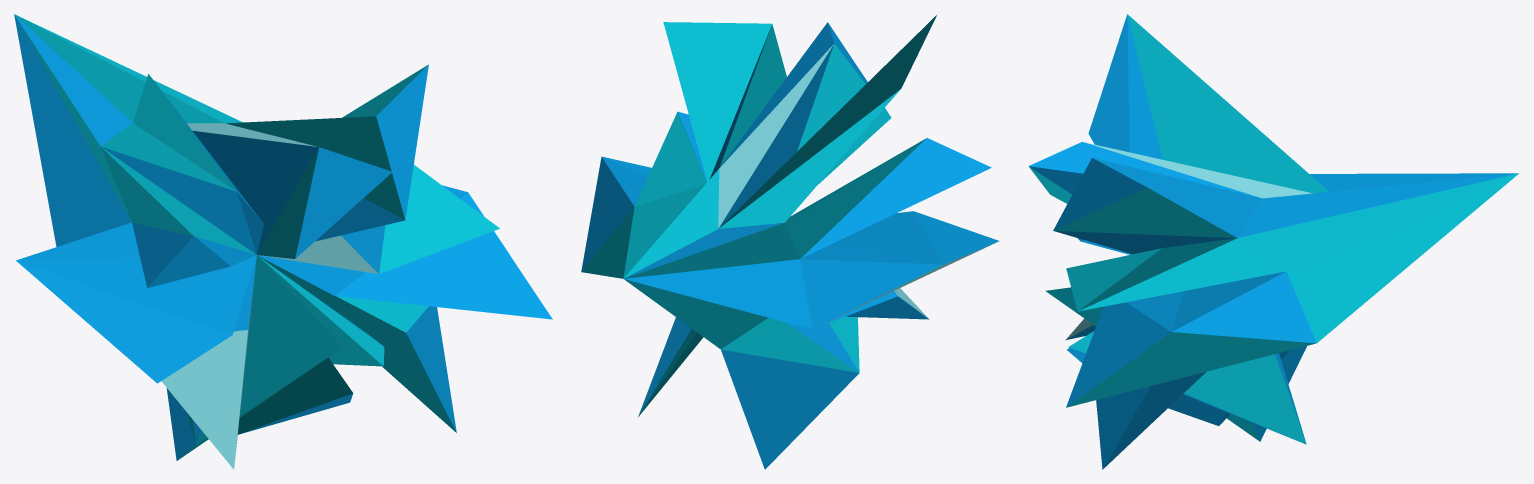
File: n5_n5_group261324369_lev5.001.glb
3 renders of one model, left to right at view 1: azimuth 30°, elevation 25°; view 2: azimuth 150°, elevation 25°; view 3: azimuth 270°, elevation 25°, orthographic. The views are drawn at different scales.
Parts seen in each view (by area): view 1: n5_n5_group261324369_lev5.001; view 2: n5_n5_group261324369_lev5.001; view 3: n5_n5_group261324369_lev5.001.
Boxes of the visible parts, box(x1,y1,x2,y2) form: n5_n5_group261324369_lev5.001: box(14, 14, 552, 469); n5_n5_group261324369_lev5.001: box(581, 15, 999, 469); n5_n5_group261324369_lev5.001: box(1028, 14, 1518, 469).
Size of the model in its own units: 11.25 by 11.7 by 13.55.
